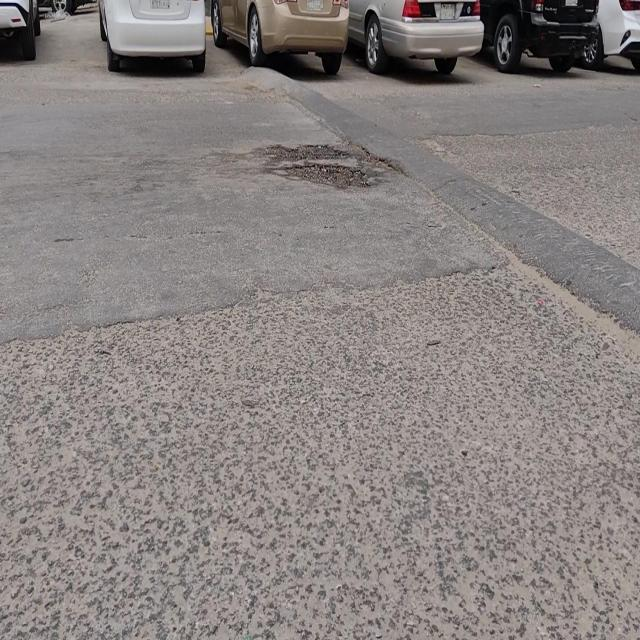Potholes: (262, 144, 371, 191)
